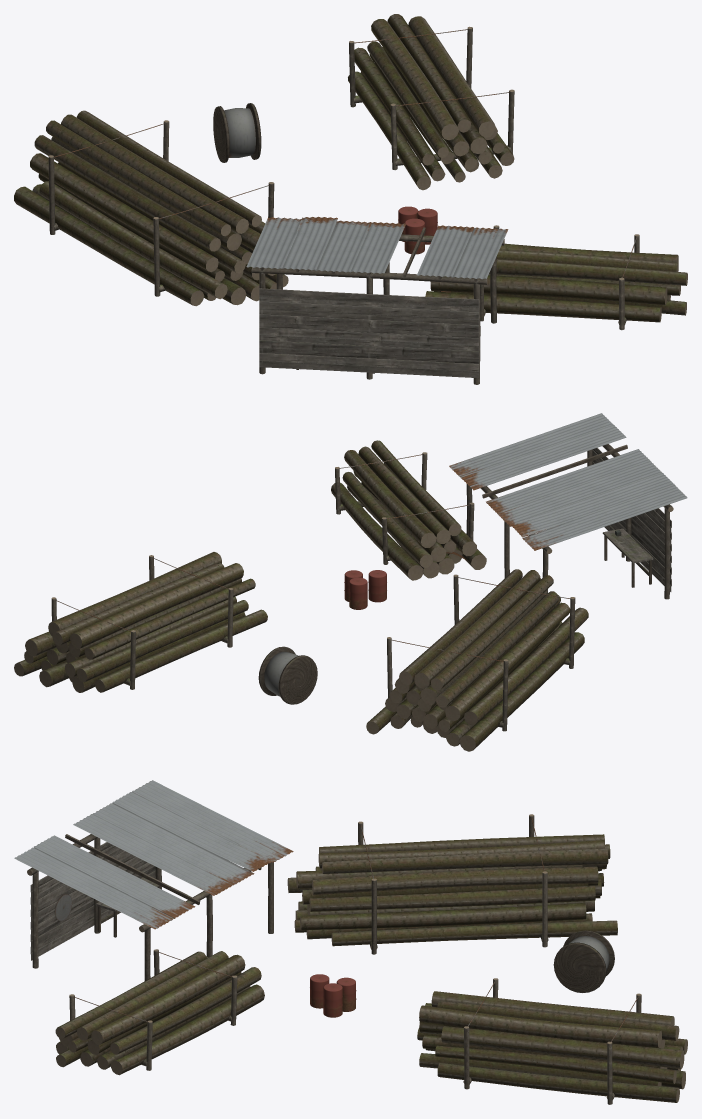
The model's file is logstack.glb.
3 renders of one model, top to bottom at view 1: azimuth 30°, elevation 25°; view 2: azimuth 150°, elevation 25°; view 3: azimuth 270°, elevation 25°, orthographic. The views are drawn at different scales.
Parts seen in each view (by area): view 1: logstack; view 2: logstack; view 3: logstack.
Part boxes in pixels (box(x1,y1,x2,y2)): logstack: box(14, 14, 687, 384); logstack: box(14, 413, 687, 751); logstack: box(14, 780, 687, 1104).
Bounding box in the file's own units: 15.67 × 3.62 × 20.25.
1 material, 1 textured.
